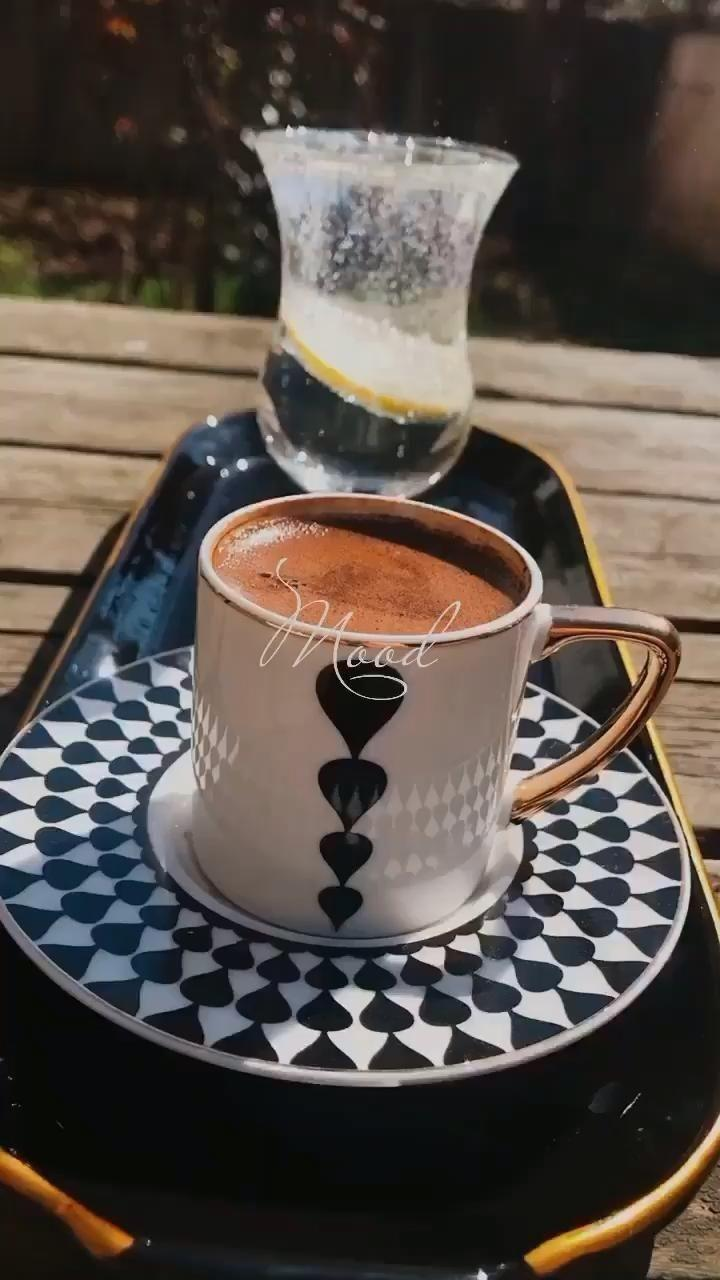cup-handle: (168, 489, 681, 943)
glass-normal: (248, 126, 517, 497)
